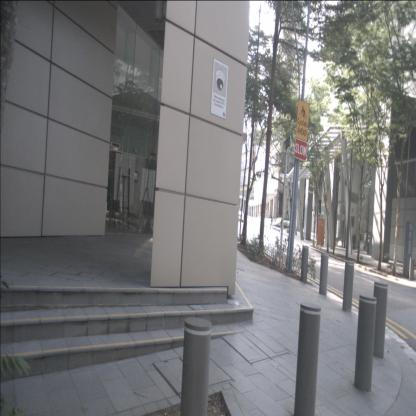human-pedestrian-adult: (270, 213, 274, 230)
vehicle-car: (237, 212, 244, 223)
